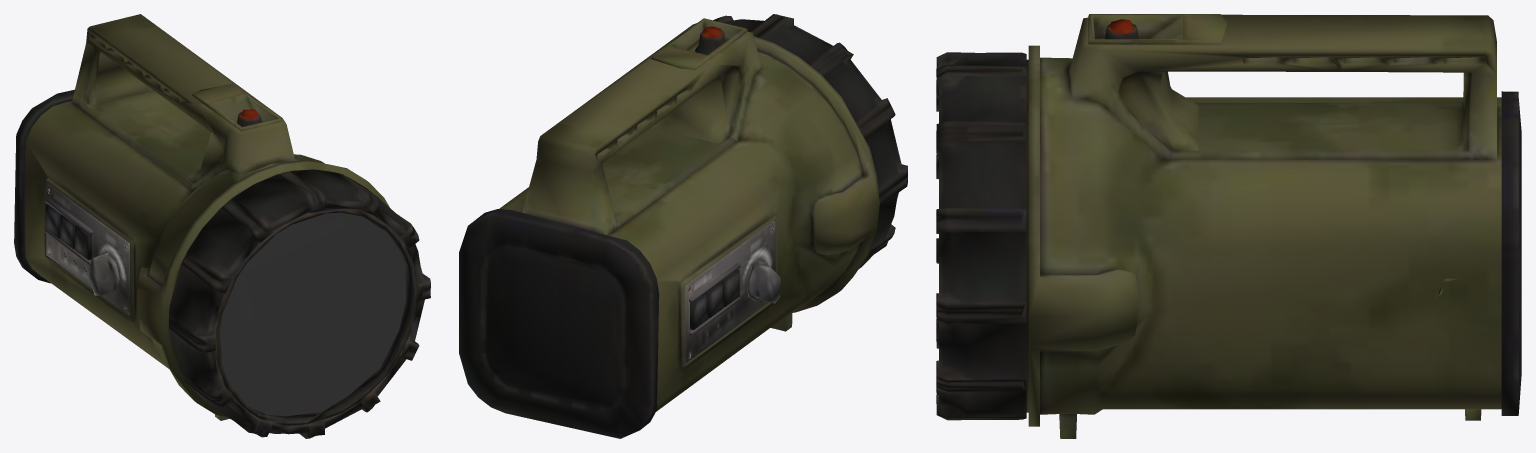
The model's file is searchlight.glb.
3 renders of one model, left to right at view 1: azimuth 30°, elevation 25°; view 2: azimuth 150°, elevation 25°; view 3: azimuth 270°, elevation 25°, orthographic. The views are drawn at different scales.
Visible parts, largest first — view 1: portable_searchlight; view 2: portable_searchlight; view 3: portable_searchlight.
Boxes of the visible parts, x1,y1,x2,y2 form: portable_searchlight: (14, 14, 430, 438); portable_searchlight: (459, 14, 907, 438); portable_searchlight: (936, 14, 1521, 438).
Size of the model in its own units: 0.1653 by 0.1849 by 0.2534.
2 materials, 2 textured.
